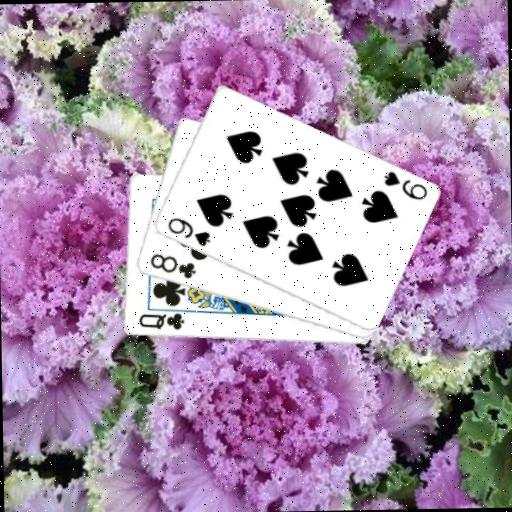8C: (146, 250, 197, 281)
9S: (380, 168, 429, 203), (164, 214, 212, 249)
QC: (136, 311, 186, 333)
